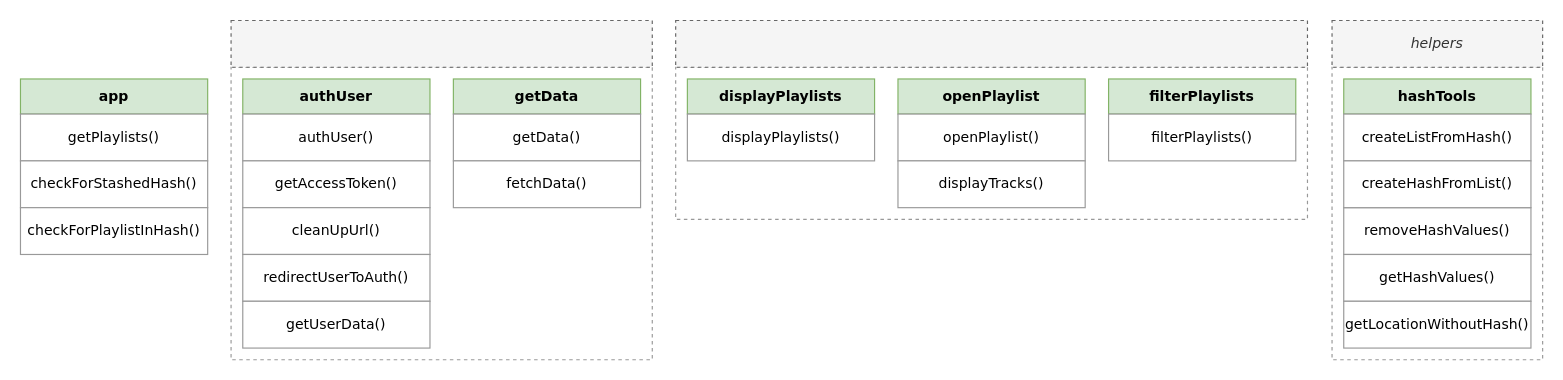
The diagram is 1563 pixels wide and 380 high, and some of its shapes have lost their labels. The shapes that lost their labels are listed below. From the top down, each one's centre as x and y in pixels, then its label:
At (441,43): "data".
At (991,43): "render".
